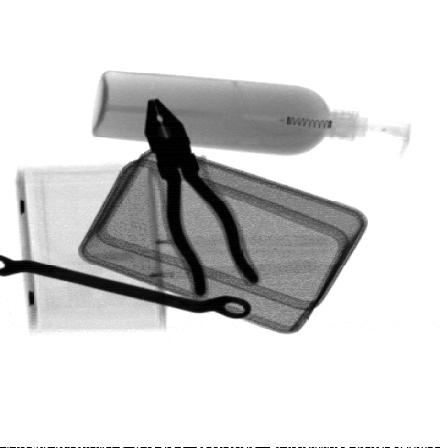Pliers: (141, 95, 263, 298)
Wrench: (4, 254, 253, 322)
